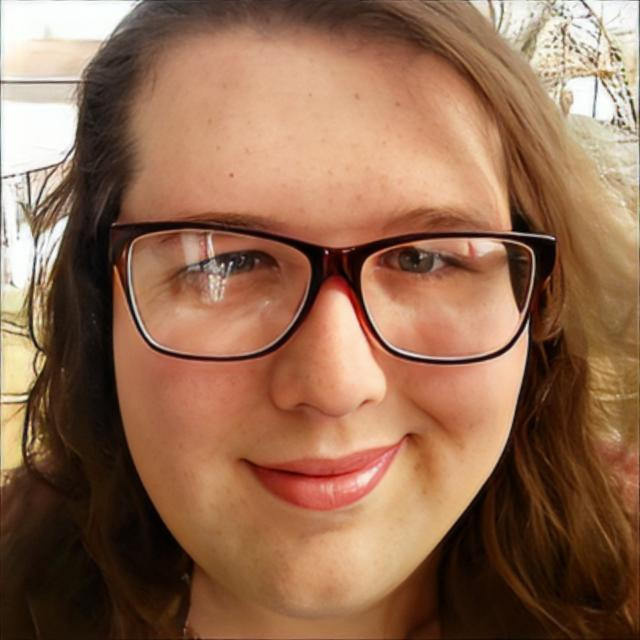content: (112, 12, 536, 612)
